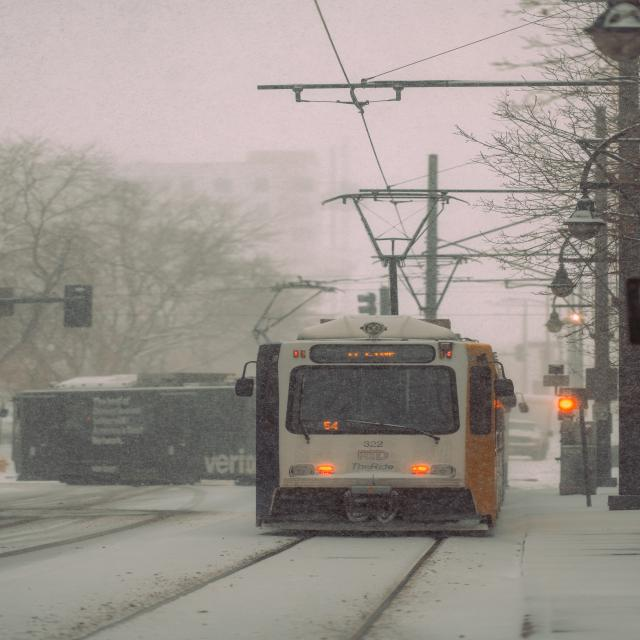Street Light: (568, 126, 640, 514), (546, 236, 618, 486)
